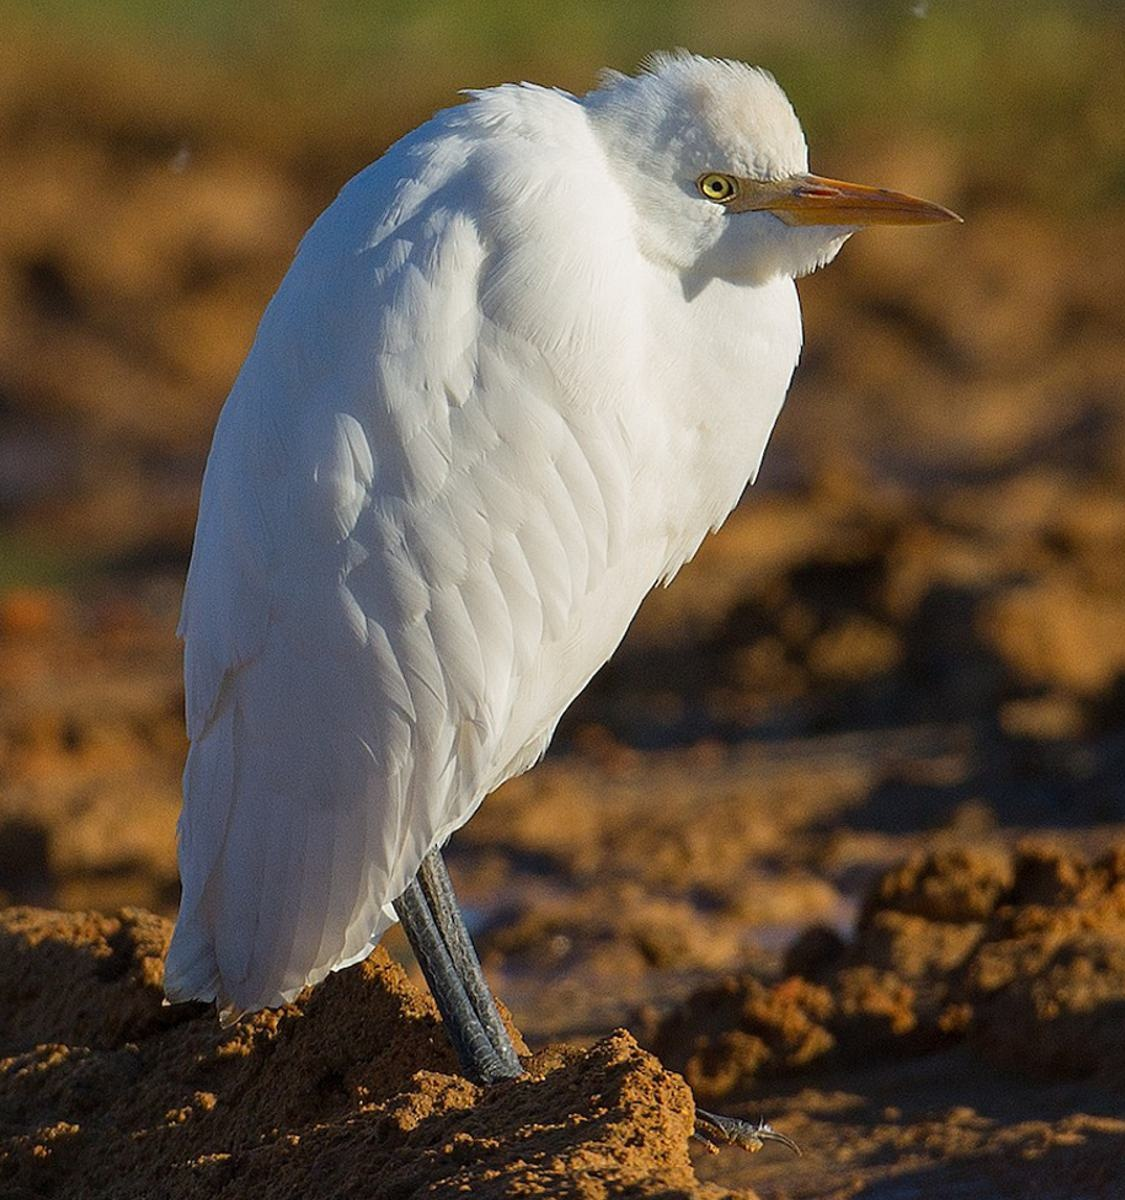egret: (144, 33, 946, 1140)
